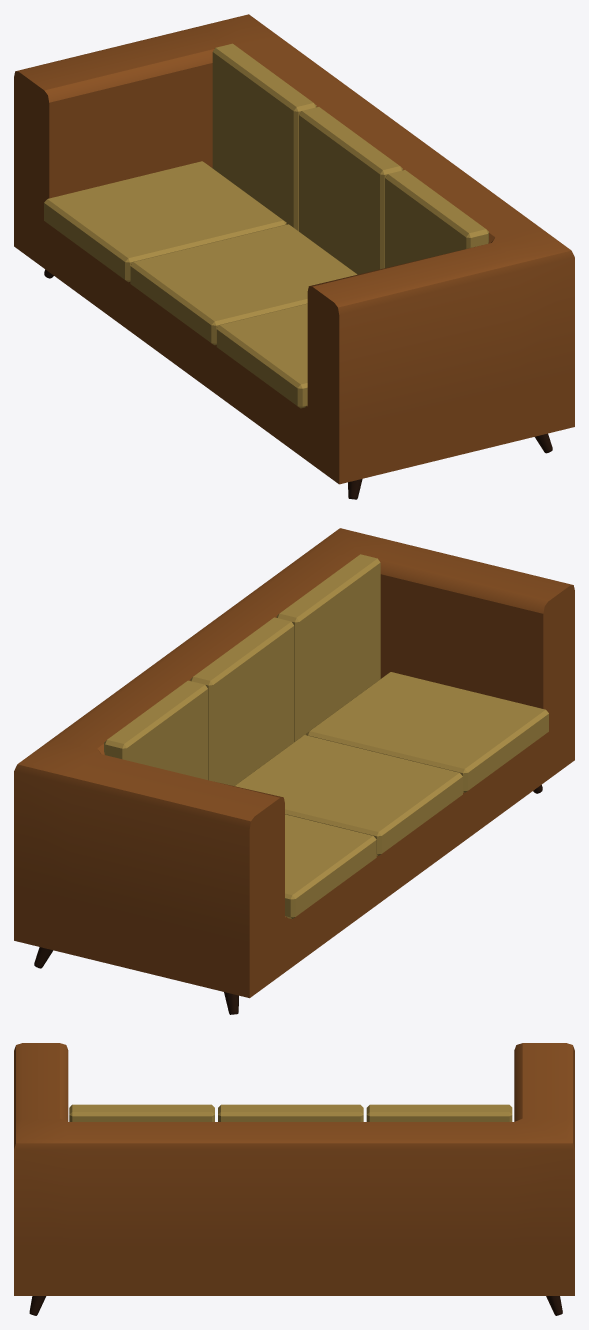
Rendered from MD_Bank.FBX.
The picture shows the model from 3 angles, top to bottom: view 1: azimuth 30°, elevation 25°; view 2: azimuth 150°, elevation 25°; view 3: azimuth 270°, elevation 25°; orthographic projection. The views are drawn at different scales.
Visible parts, largest first — view 1: MD_Bank; view 2: MD_Bank; view 3: MD_Bank.
Part boxes in pixels (box(x1,y1,x2,y2)): MD_Bank: box(14, 14, 574, 499); MD_Bank: box(14, 528, 574, 1014); MD_Bank: box(14, 1043, 574, 1315).
Size of the model in its own units: 93.01 by 79.18 by 215.
